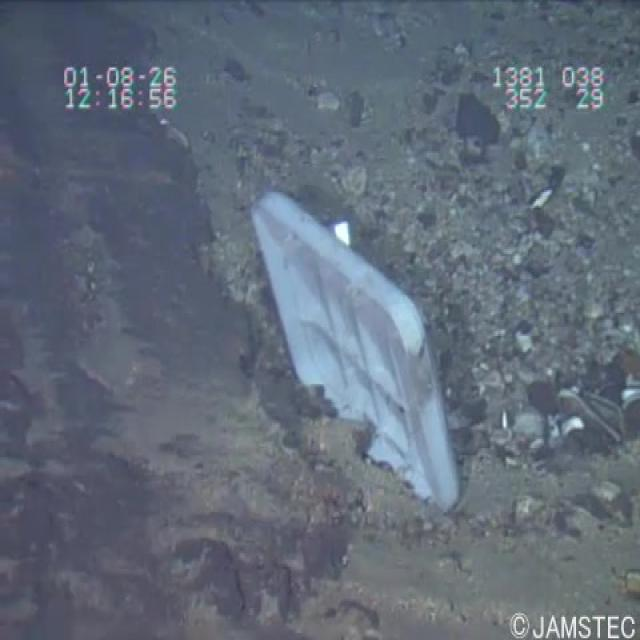plastic: (244, 180, 477, 548)
